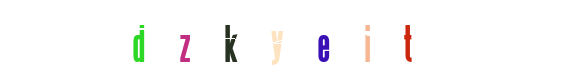D: (99, 0, 179, 80)
E: (253, 0, 333, 80)
I: (283, 0, 363, 80)
K: (193, 0, 273, 80)
T: (367, 0, 447, 80)
Y: (248, 0, 328, 80)
Z: (190, 0, 270, 80)
